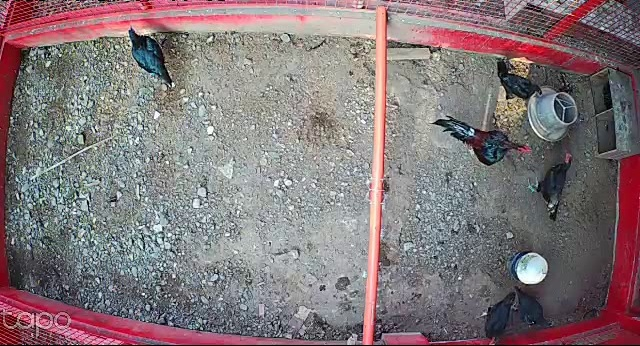Chicken: (525, 150, 575, 220), (126, 23, 173, 87), (493, 59, 542, 105), (509, 280, 553, 329), (478, 292, 516, 346)
Drinker: (509, 249, 550, 286)
Feeder: (526, 83, 578, 142)
Leg_Band_Green: (429, 111, 535, 170), (529, 186, 537, 193)
